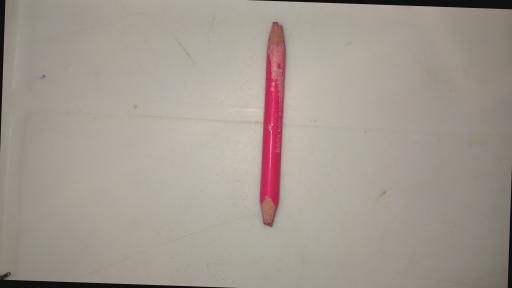Pencil: (258, 20, 286, 230)
